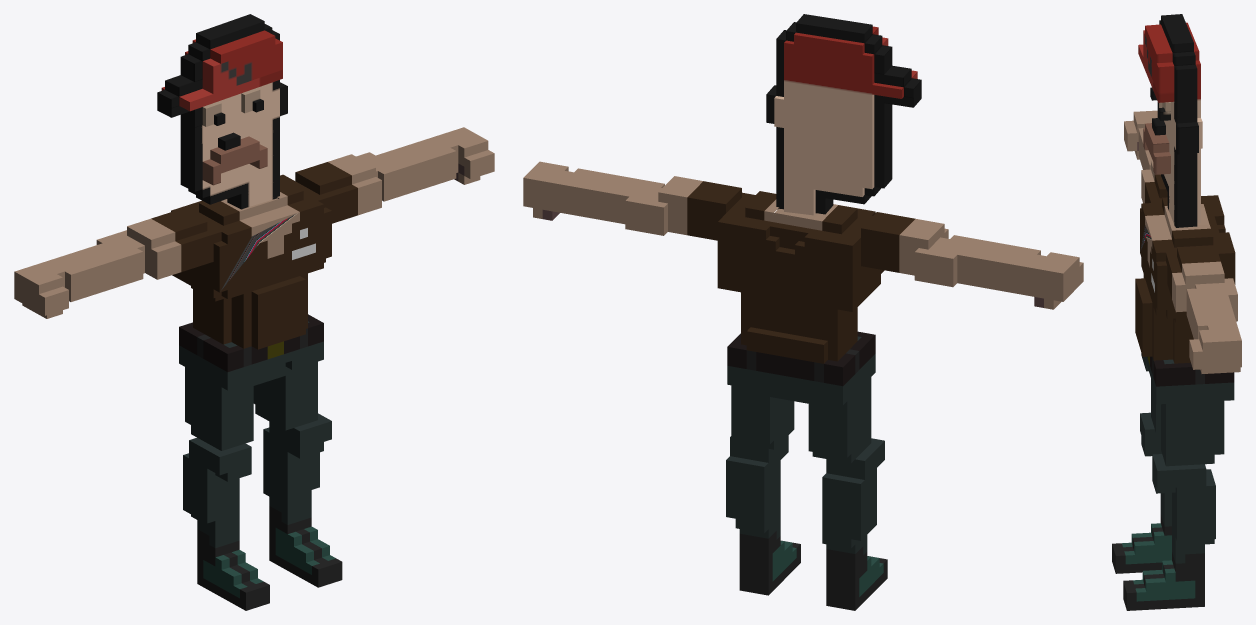
The model's file is polak.gltf.
The picture shows the model from 3 angles, left to right: view 1: azimuth 30°, elevation 25°; view 2: azimuth 150°, elevation 25°; view 3: azimuth 270°, elevation 25°; orthographic projection. The views are drawn at different scales.
Visible parts, largest first — view 1: thePolak2; view 2: thePolak2; view 3: thePolak2.
Boxes of the visible parts, box(x1,y1,x2,y2) form: thePolak2: box(14, 14, 494, 610); thePolak2: box(523, 14, 1083, 610); thePolak2: box(1112, 14, 1241, 610).
Size of the model in its own units: 562 by 607 by 132.
2 materials, 2 textured.
